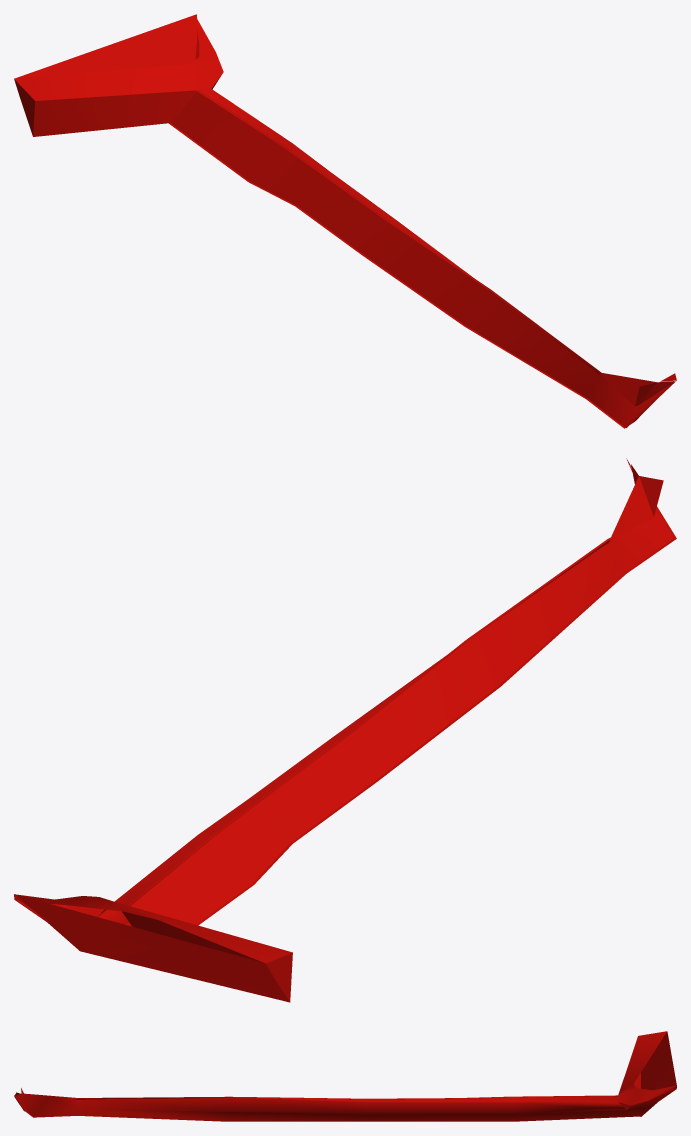
The model's file is Classic_2_Sidepanel_2_L.fbx.
3 renders of one model, top to bottom at view 1: azimuth 30°, elevation 25°; view 2: azimuth 150°, elevation 25°; view 3: azimuth 270°, elevation 25°, orthographic. The views are drawn at different scales.
Parts seen in each view (by area): view 1: Classic_2_Sidepanel_2_L; view 2: Classic_2_Sidepanel_2_L; view 3: Classic_2_Sidepanel_2_L.
Boxes of the visible parts, x1,y1,x2,y2 form: Classic_2_Sidepanel_2_L: (14,14,676,428); Classic_2_Sidepanel_2_L: (14,458,676,1002); Classic_2_Sidepanel_2_L: (14,1031,676,1121).
Size of the model in its own units: 69.97 by 22.99 by 306.
